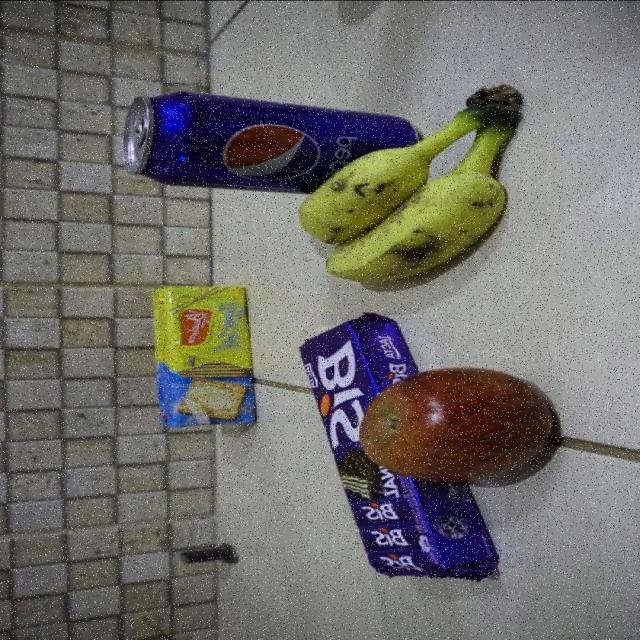Apple: (359, 366, 560, 482)
Banana: (298, 83, 528, 283)
Cracker: (150, 285, 256, 427)
SodaCan: (120, 91, 426, 196)
